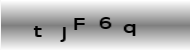6: (98, 15, 112, 30)
F: (72, 17, 85, 30)
J: (58, 26, 67, 42)
q: (122, 22, 137, 38)
t: (32, 25, 42, 38)
